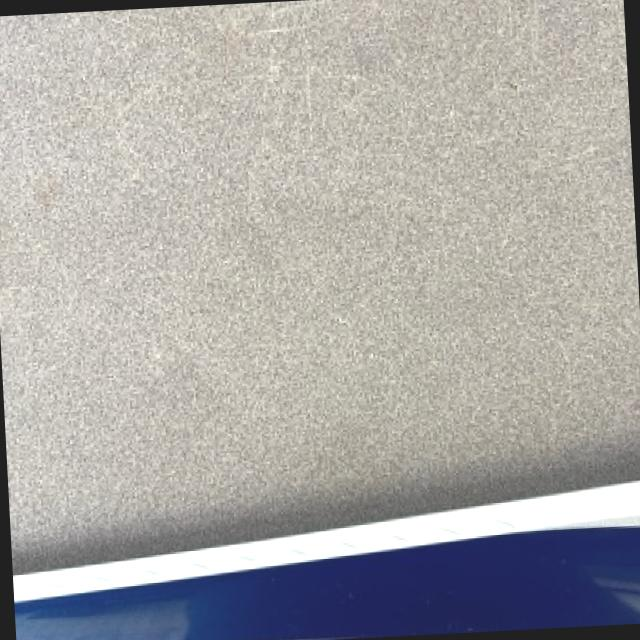healthy: (15, 481, 640, 640)
